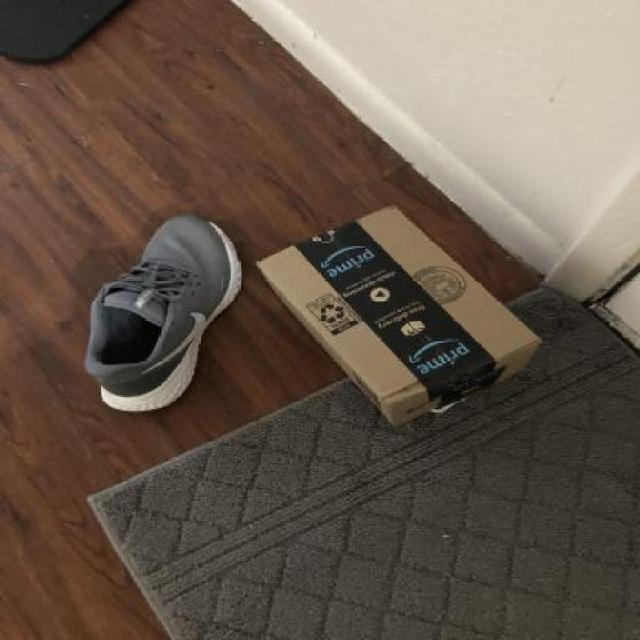cardboxes: (248, 201, 548, 439)
